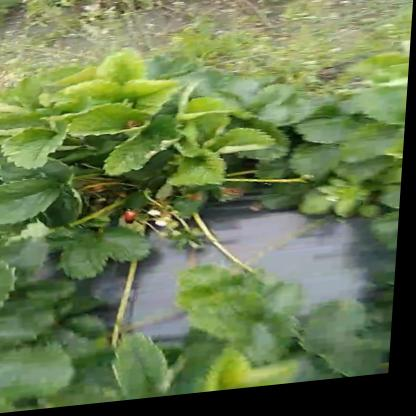ripe: (126, 215, 140, 225)
